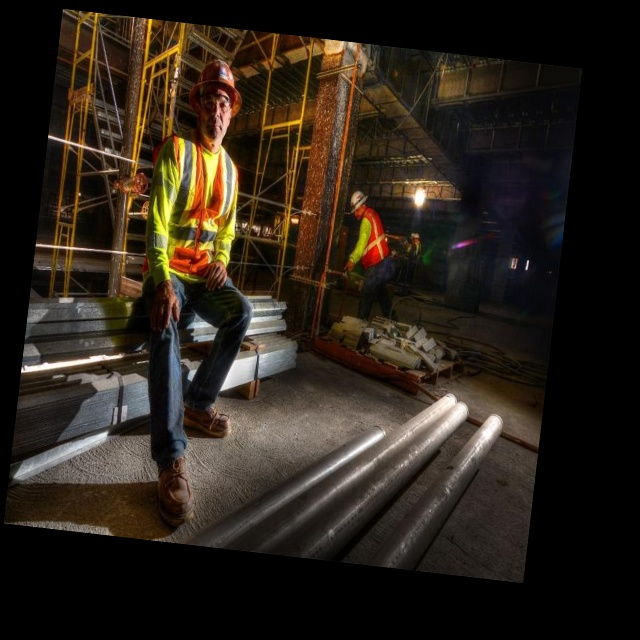Con_Casco: (184, 58, 245, 137)
Con_Chaleco: (152, 136, 241, 280), (357, 208, 392, 269)
